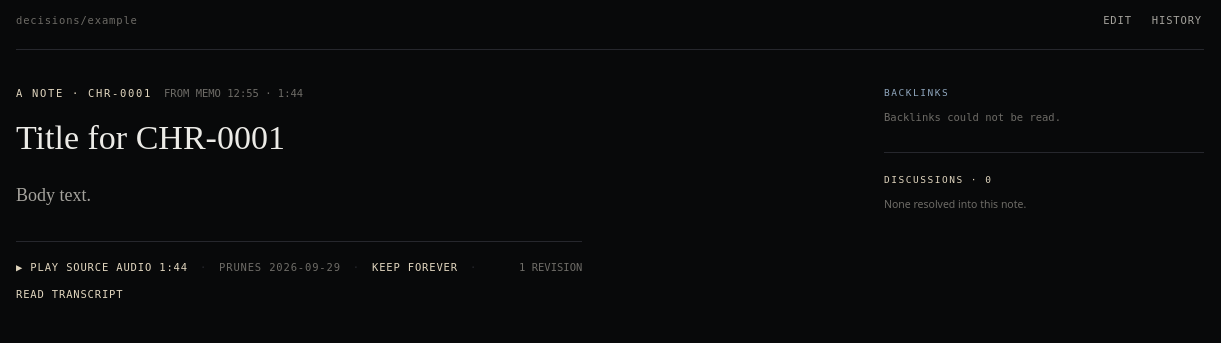
Test: NoteView -- keeping the recording › a pin that lost to the sweep says so, and the row re-reads as pruned
Click the button "KEEP FOREVER" at (415, 268), box [372, 260, 458, 275]
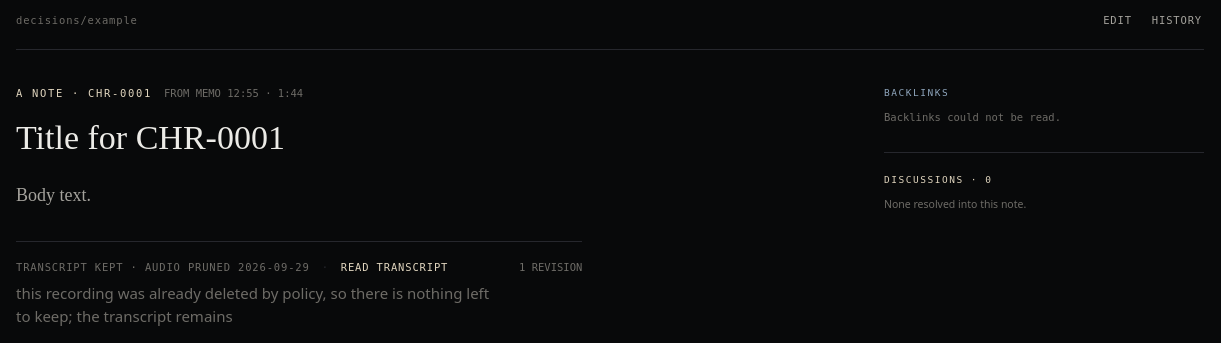
Check: the text "TRANSCRIPT KEPT · AUDIO PRUNED 2026-09-29" is shown, box [16, 260, 310, 275]
